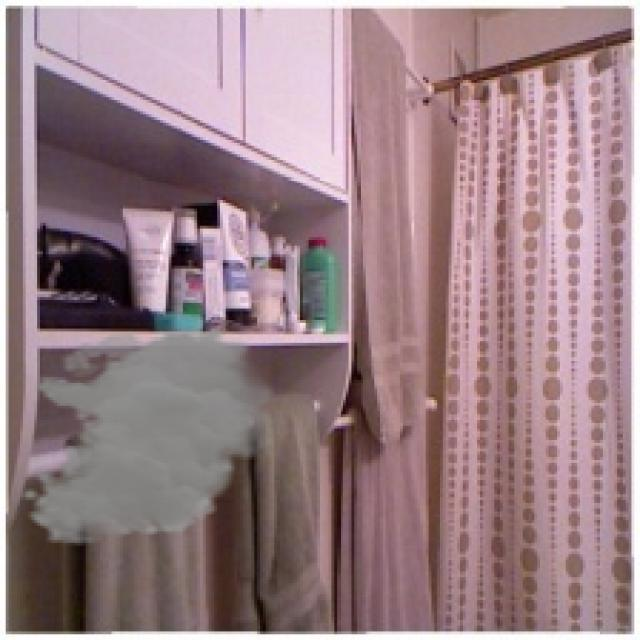smoke: (20, 326, 289, 546)
